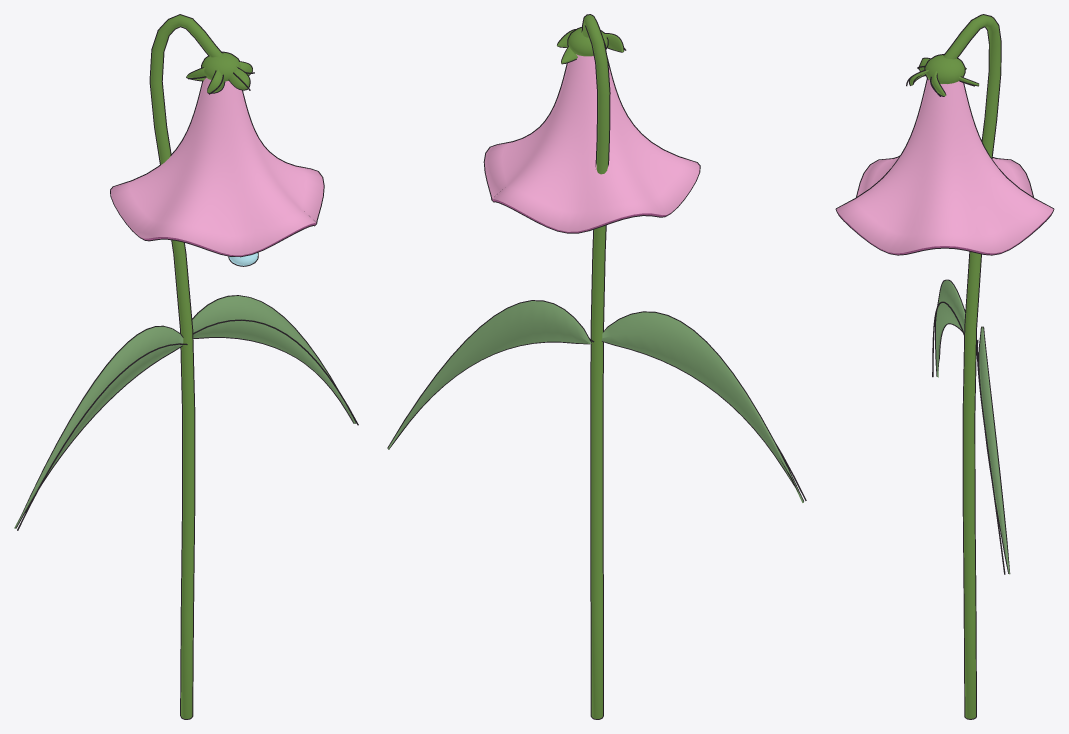
The model's file is pleurelune_pink.glb.
3 views of the same model, side by side, from view 1: azimuth 30°, elevation 25°; view 2: azimuth 150°, elevation 25°; view 3: azimuth 270°, elevation 25° (orthographic).
Parts seen in each view (by area): view 1: pleurelune_Geometry; view 2: pleurelune_Geometry; view 3: pleurelune_Geometry.
Boxes of the visible parts, <box> form: pleurelune_Geometry: <box>14,14,358,719</box>; pleurelune_Geometry: <box>387,14,806,719</box>; pleurelune_Geometry: <box>835,14,1054,719</box>.
Size of the model in its own units: 0.3072 by 0.5439 by 0.1534.
